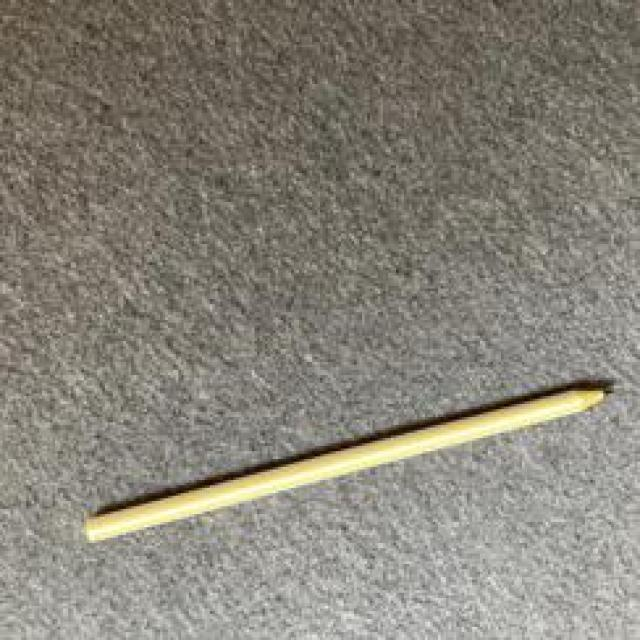pencil: (81, 375, 614, 543)
